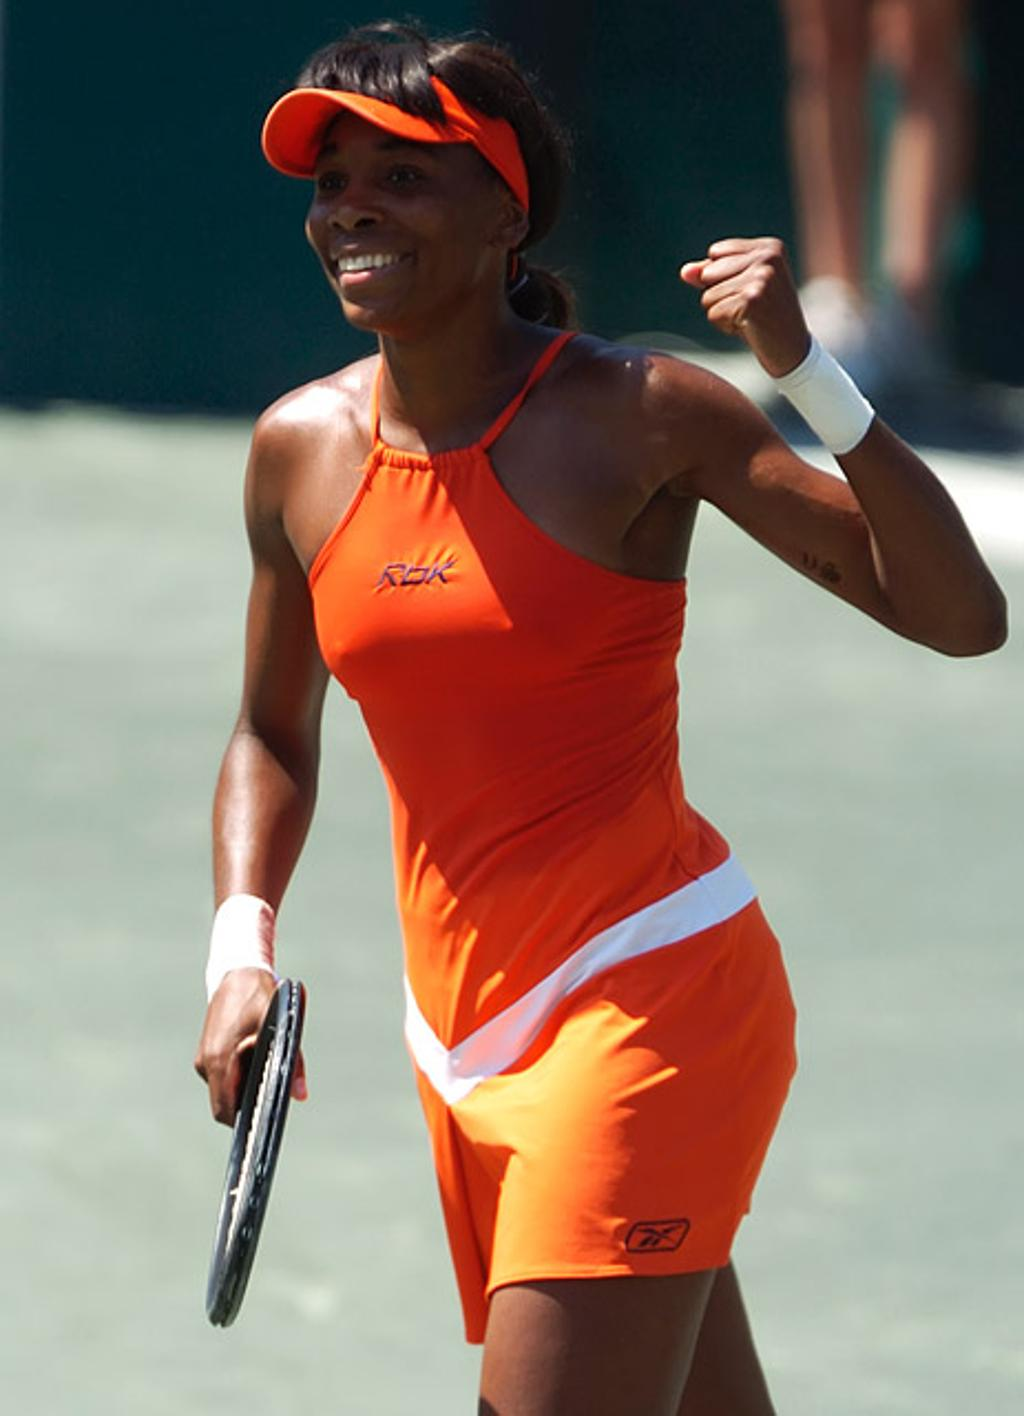face: (307, 111, 495, 332)
